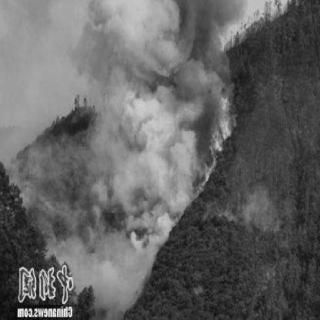Smoke: (87, 5, 211, 222), (88, 225, 166, 302), (47, 226, 79, 278)
